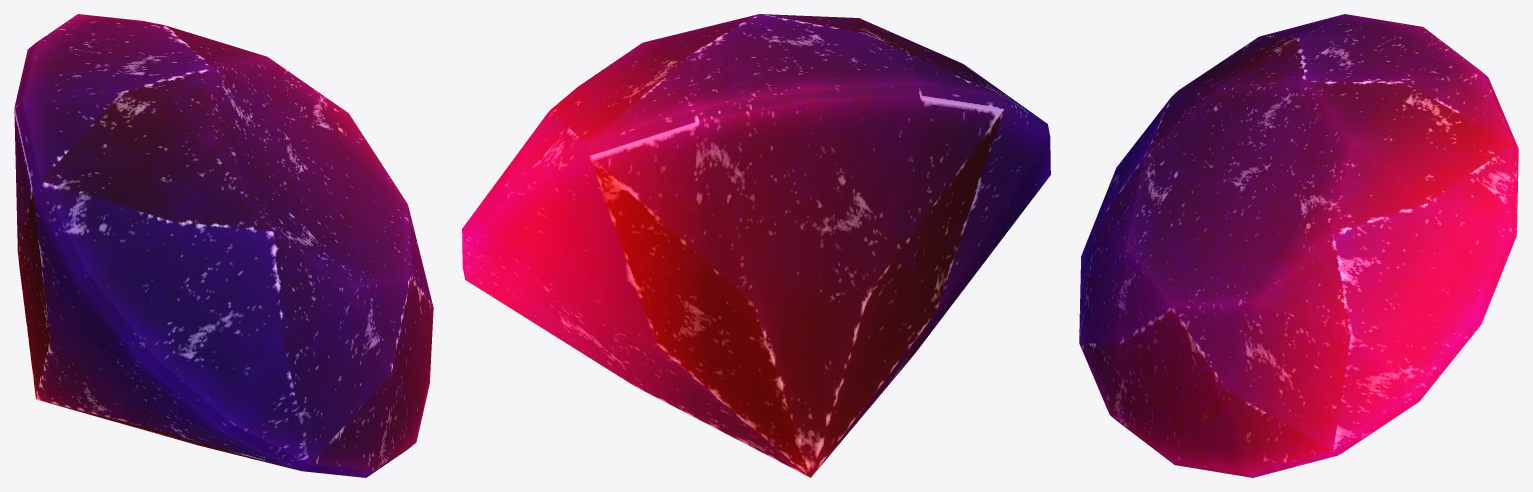
Rendered from powerUp_final.fbx.
3 views of the same model, side by side, from view 1: azimuth 30°, elevation 25°; view 2: azimuth 150°, elevation 25°; view 3: azimuth 270°, elevation 25° (orthographic). The views are drawn at different scales.
Visible parts, largest first — view 1: Diamonds:Diamond_C; view 2: Diamonds:Diamond_C; view 3: Diamonds:Diamond_C.
Boxes of the visible parts, <box> form: Diamonds:Diamond_C: <box>14,14,433,477</box>; Diamonds:Diamond_C: <box>462,14,1050,477</box>; Diamonds:Diamond_C: <box>1079,14,1518,477</box>.
Size of the model in its own units: 78.4 by 65.53 by 78.4.
1 material, 1 textured.
